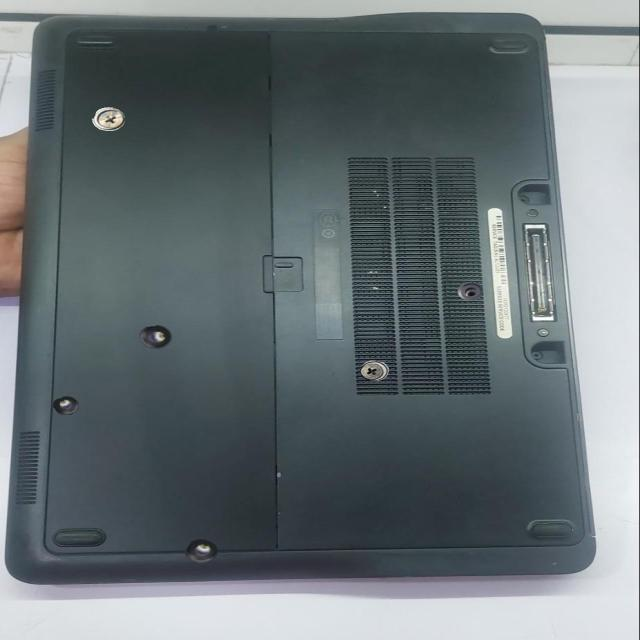lock: (92, 107, 125, 131), (360, 360, 389, 381)
missing_screw: (184, 539, 217, 563), (138, 324, 171, 348), (52, 396, 79, 415), (457, 282, 483, 300)
